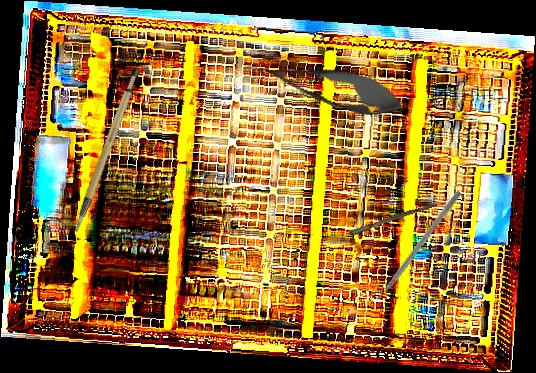Micro Scissor: (238, 44, 412, 127)
Pusher: (367, 189, 463, 311)
Scalpel Handle: (47, 66, 162, 233)
Surgical Spoon: (318, 199, 438, 249)
